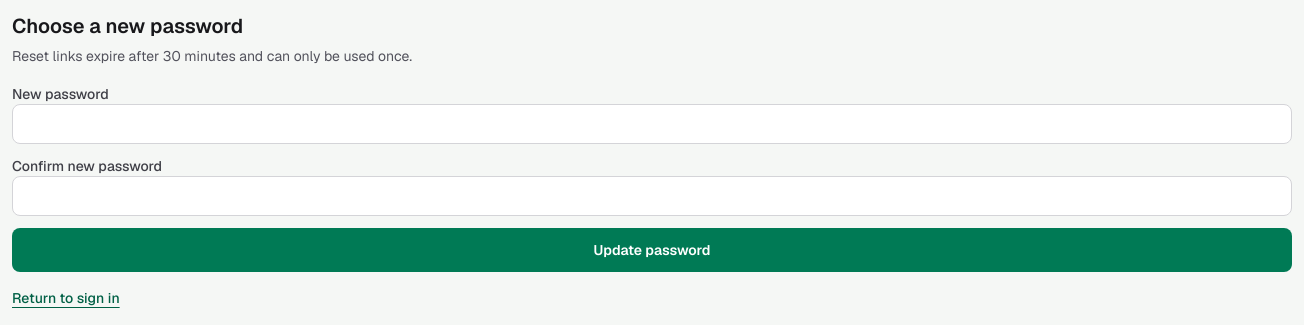
Test: password authentication forms › submits a single-use reset token and removes it from the URL on success
The width and height of the screenshot is (1304, 325).
Step 1. Type "a secure password" into the password field labelled "New password" → x=652, y=124, box [12,104,1292,144]
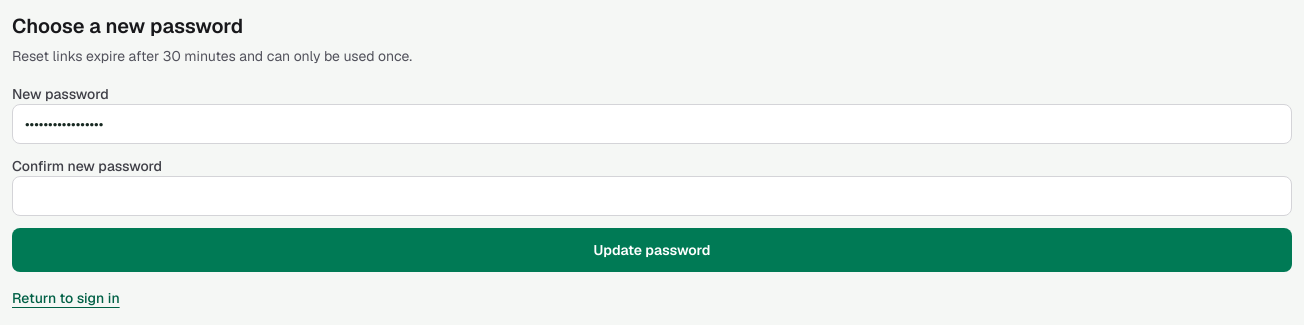
Step 2. Type "a secure password" into the password field labelled "Confirm new password" → x=652, y=196, box [12,176,1292,216]
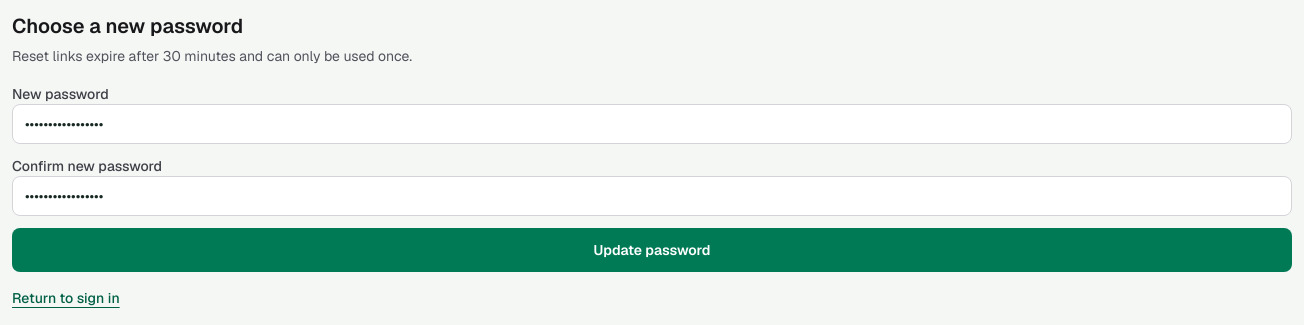
Step 3. Click the button "Update password" → x=652, y=250, box [12,228,1292,272]
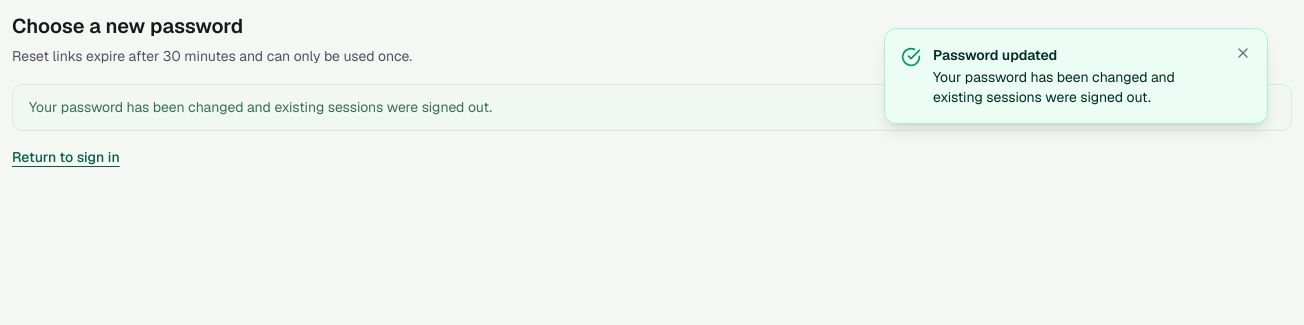
Expected: the message shows "Your password has been changed", [29,98,492,116]
